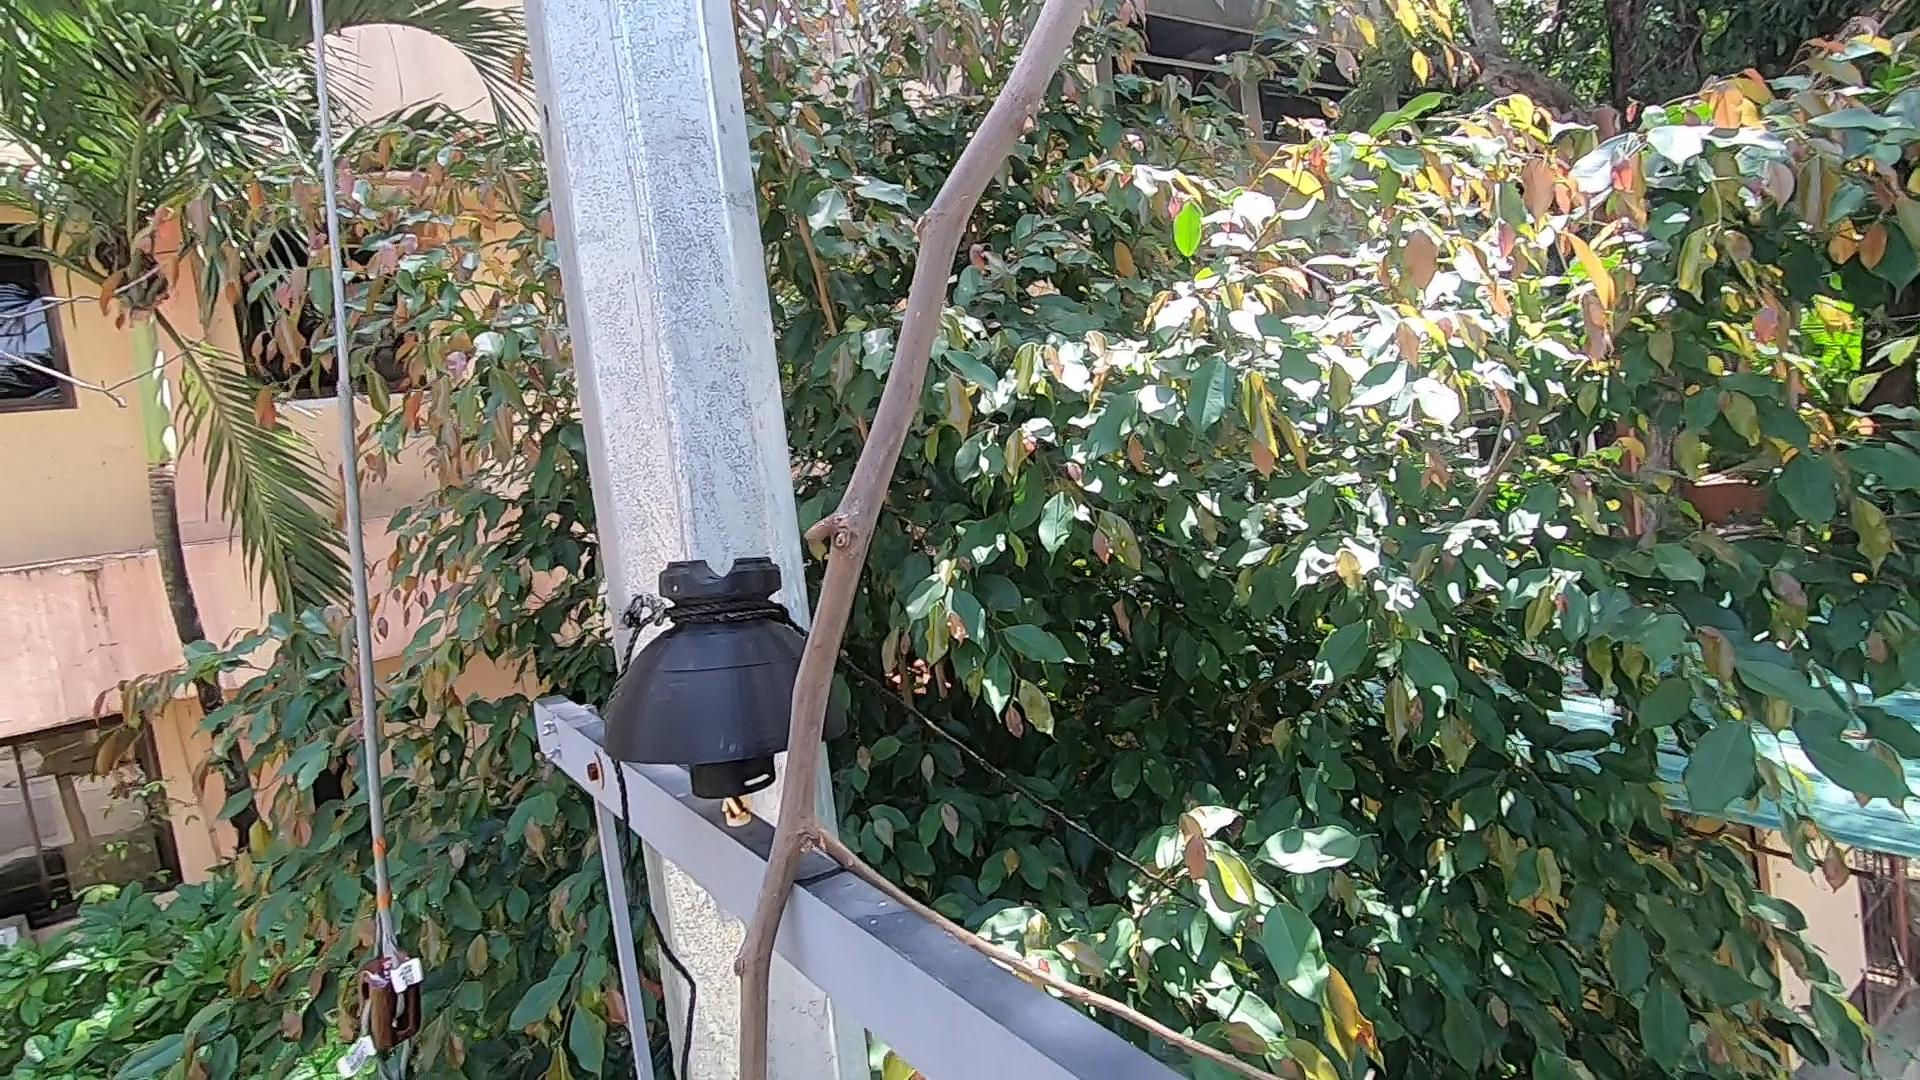tree branch: (724, 1, 1060, 1075)
